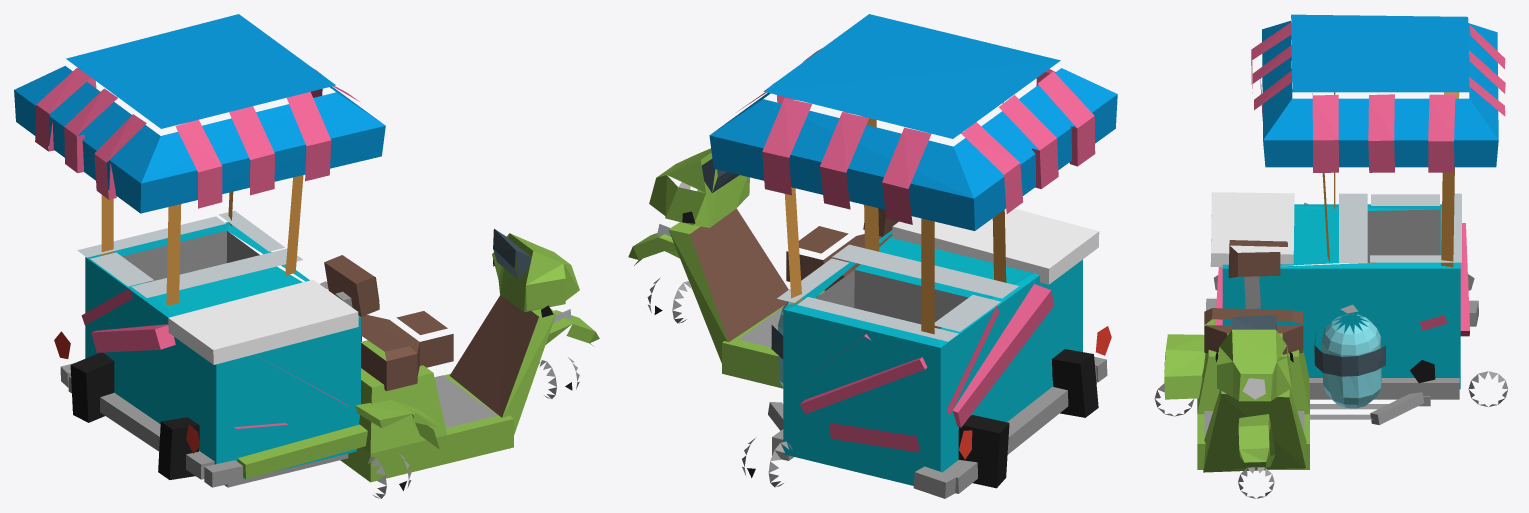
The model's file is kiosk-vendor.glb.
3 renders of one model, left to right at view 1: azimuth 30°, elevation 25°; view 2: azimuth 150°, elevation 25°; view 3: azimuth 270°, elevation 25°, orthographic. The views are drawn at different scales.
Visible parts, largest first — view 1: group784883372; view 2: group784883372; view 3: group784883372.
Part boxes in pixels (x1=…): group784883372: x1=14, y1=14, x2=599, y2=498; group784883372: x1=628, y1=14, x2=1117, y2=498; group784883372: x1=1154, y1=14, x2=1507, y2=498.
Size of the model in its own units: 2.45 by 1.84 by 1.89.
